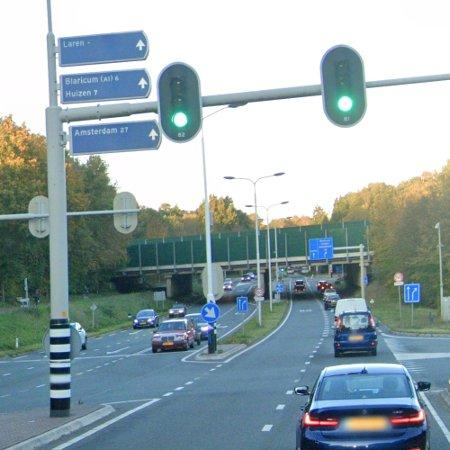traffic lights: (159, 62, 201, 143)
